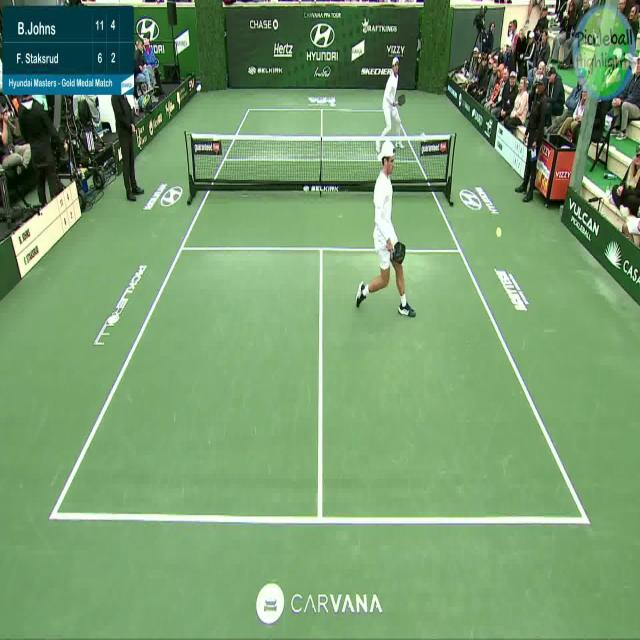Court: (52, 105, 587, 522)
ball: (494, 221, 506, 242)
